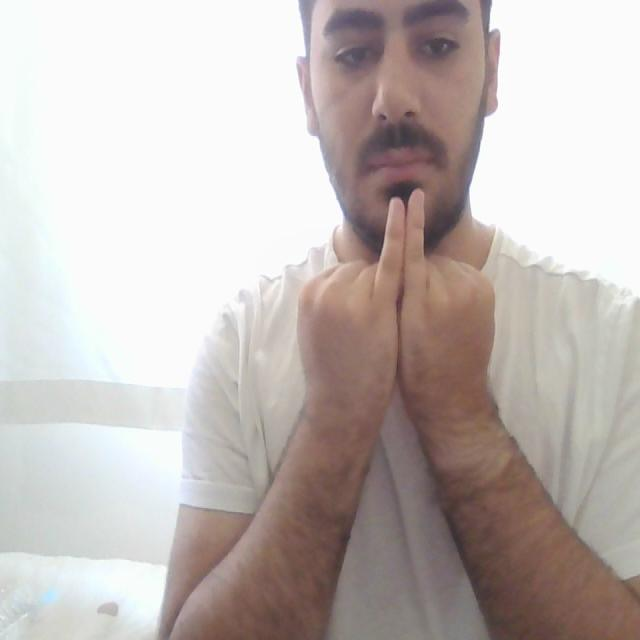Kardes: (294, 176, 498, 439)
